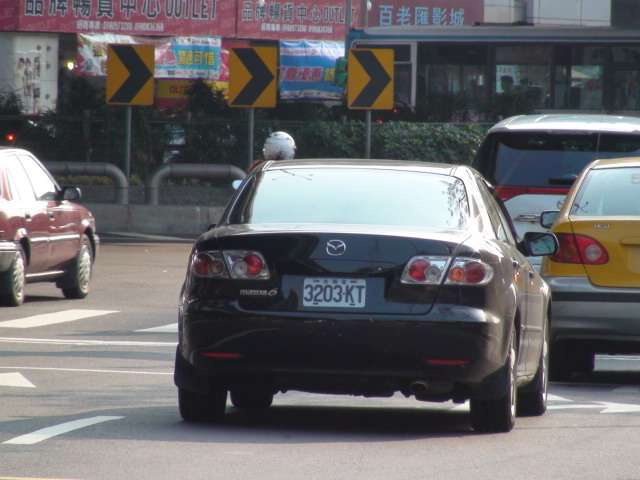plate: (300, 275, 370, 309)
